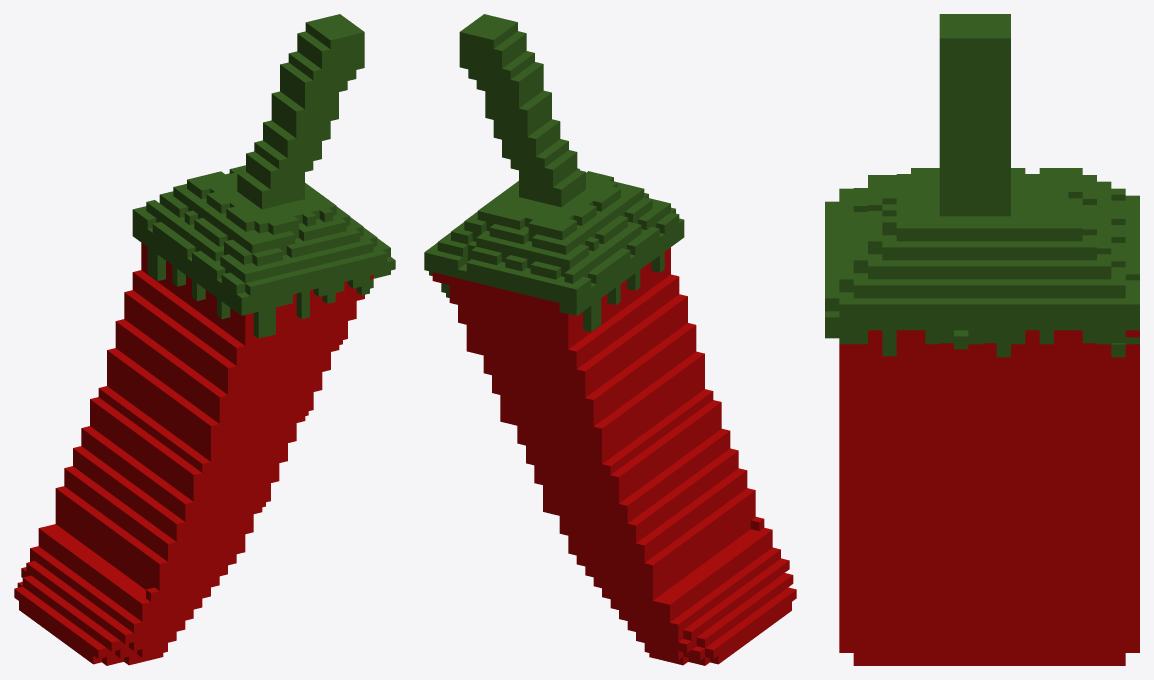
File: Chile.obj
The picture shows the model from 3 angles, left to right: view 1: azimuth 30°, elevation 25°; view 2: azimuth 150°, elevation 25°; view 3: azimuth 270°, elevation 25°; orthographic projection. The views are drawn at different scales.
Size of the model in its own units: 3.4 by 6.1 by 2.2.
